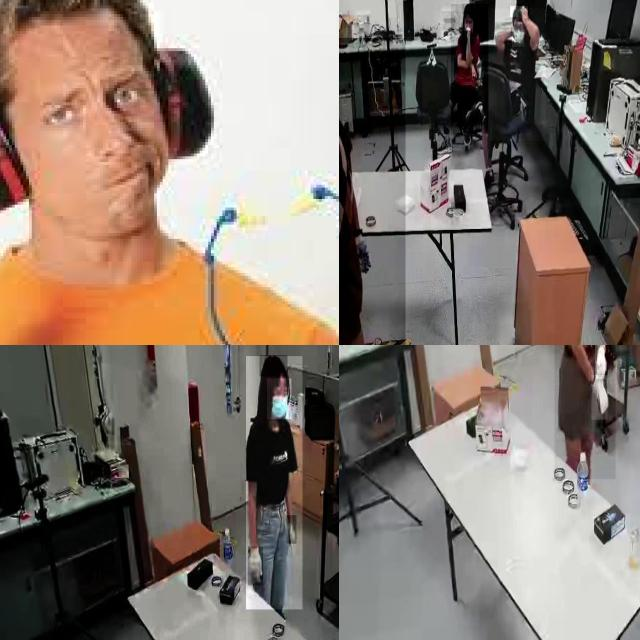Ear-protection: (0, 16, 218, 219)
face_mask: (267, 378, 291, 419), (512, 18, 524, 47)
face_nomask: (464, 18, 474, 32)
hand_glove: (592, 375, 608, 421), (248, 546, 264, 586), (594, 345, 605, 379), (287, 515, 297, 545)
hand_noglove: (518, 4, 530, 23), (465, 23, 471, 40), (470, 64, 476, 77)
head_nohelmet: (260, 356, 288, 378), (510, 6, 528, 18), (462, 3, 477, 15)
person: (339, 38, 405, 345), (246, 356, 303, 610), (554, 345, 615, 480), (488, 8, 546, 142), (451, 4, 489, 135)
